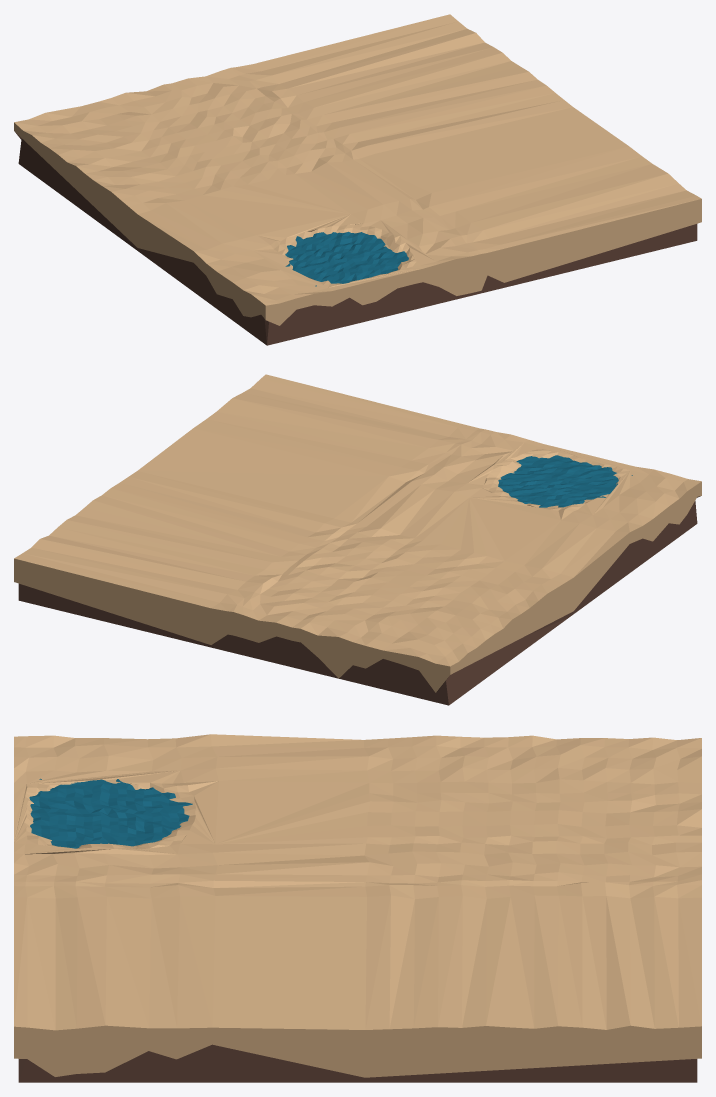
The picture shows the model from 3 angles, top to bottom: view 1: azimuth 30°, elevation 25°; view 2: azimuth 150°, elevation 25°; view 3: azimuth 270°, elevation 25°; orthographic projection. The views are drawn at different scales.
Parts seen in each view (by area): view 1: Base; view 2: Base; view 3: Base.
Part boxes in pixels (x1,y1,x2,y2): Base: [14, 14, 701, 345]; Base: [14, 374, 701, 705]; Base: [14, 734, 701, 1082].
Bounding box in the file's own units: 10000 × 961 × 10000.
